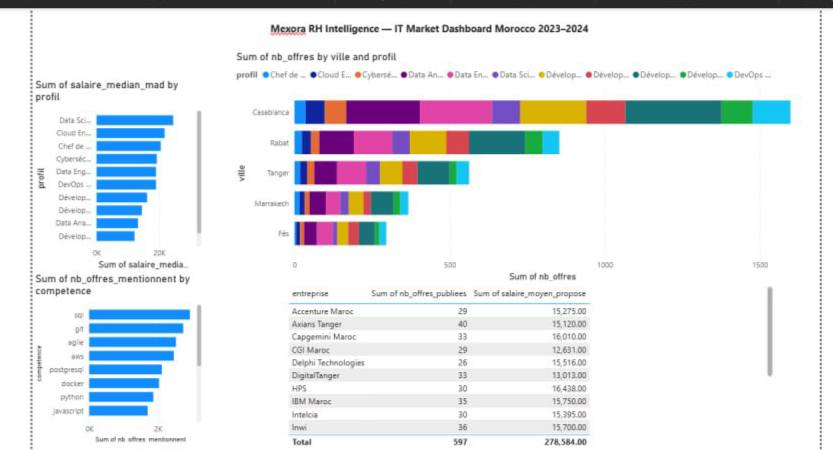

The dashboard page shown, as its layout file describes it:
{"tool":"powerbi","page":{"name":"Page 1","canvas":[1280,720],"ordinal":0},"visuals":[{"type":"clusteredBarChart","fields":{"Category":["Salaires.profil"],"Y":["Sum(Salaires.salaire_median_mad)"]},"box":[0,114.3,335.5,315.2],"z":0},{"type":"clusteredBarChart","fields":{"Category":["TopCompetences.competence"],"Y":["Sum(TopCompetences.nb_offres_mentionnent)"]},"box":[0,429.5,335.5,280.2],"z":1000},{"type":"barChart","fields":{"Category":["OffresVille.ville"],"Y":["Sum(OffresVille.nb_offres)"],"Series":["OffresVille.profil"]},"box":[348.4,114.3,925.4,379.8],"z":2000},{"type":"tableEx","fields":{"Values":["Entreprises.entreprise","Sum(Entreprises.nb_offres_publiees)","Sum(Entreprises.salaire_moyen_propose)"]},"box":[446.1,429.5,798.2,272.8],"z":3000},{"type":"textbox","box":[381.7,17,557.5,35.9],"z":4000}]}

Visuals, with their boxes on the page's 1280x720 design canvas (x1, y1, x2, y2). These are canvas units, not pixel positions in the 833x450 screenshot, which may show the page scaled, cropped or inside an application window:
clusteredBarChart - Salaires.profil x Sum(Salaires.salaire_median_mad): Rect(0, 114, 336, 430)
clusteredBarChart - TopCompetences.competence x Sum(TopCompetences.nb_offres_mentionnent): Rect(0, 430, 336, 710)
barChart - OffresVille.ville x Sum(OffresVille.nb_offres): Rect(348, 114, 1274, 494)
tableEx - Entreprises.entreprise x Sum(Entreprises.nb_offres_publiees): Rect(446, 430, 1244, 702)
textbox: Rect(382, 17, 939, 53)
